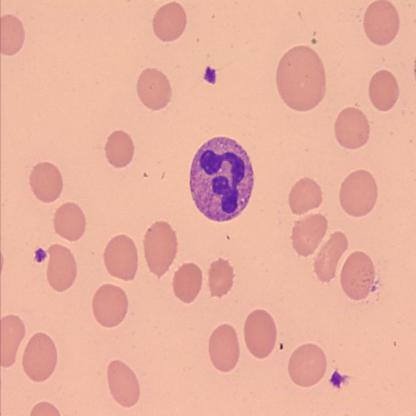Segmented neutrophil: (188, 133, 256, 223)
